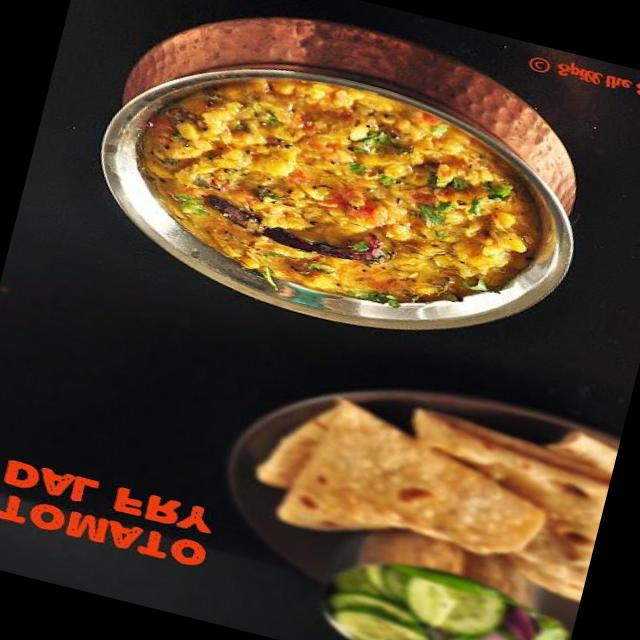dal: (64, 0, 610, 386)
roti: (212, 337, 624, 634)
